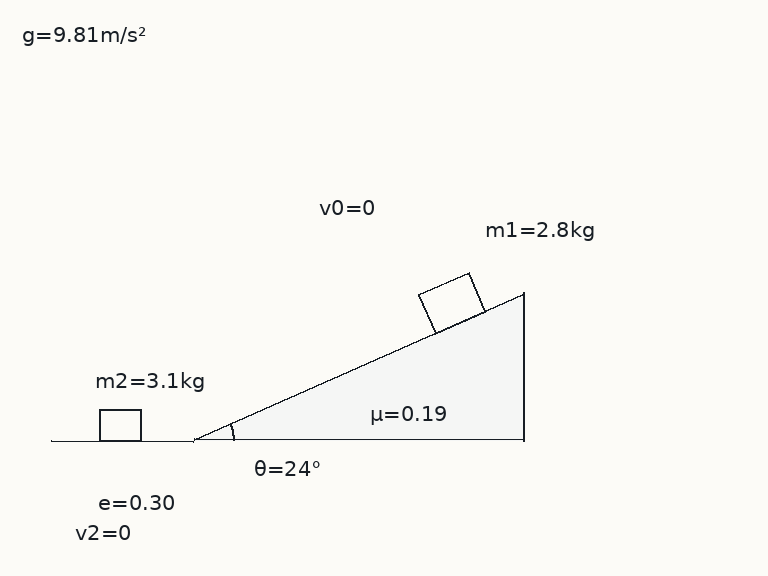block: (416, 271, 487, 335), (97, 407, 143, 442)
ramp: (192, 291, 526, 442)
